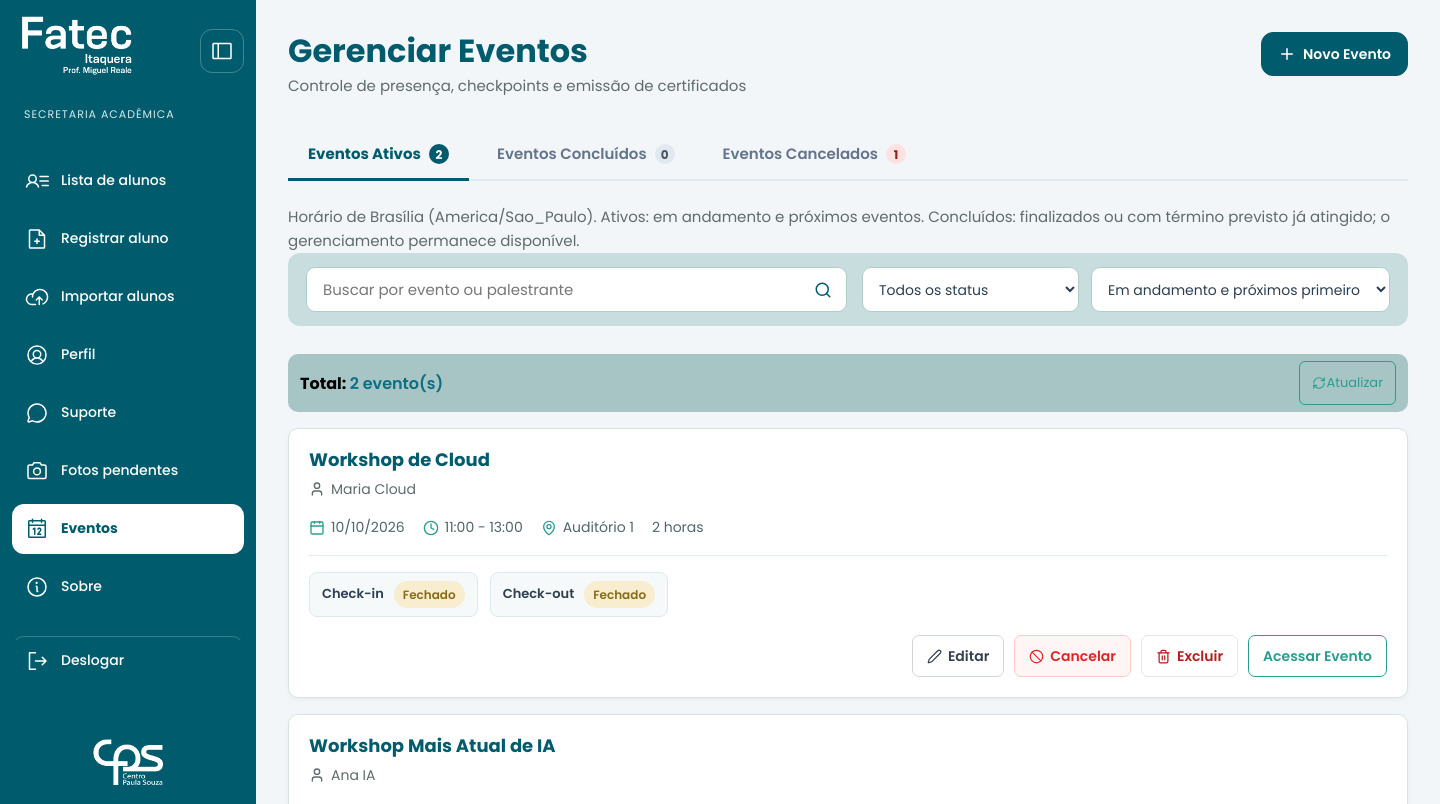
Test: SecretariaEventosScreen › renders active events by default and displays cancelled events only in cancelled tab
The width and height of the screenshot is (1440, 804).
expect the heading "Workshop Mais Atual de IA" is shown: met, box [309,735,556,757]
expect the heading "Workshop de Cloud" is shown: met, box [309,449,490,471]
// Troca para a aba de cancelados
Click the tab "Eventos Cancelados 1". click: (814, 156)
box: [703,130,926,181]
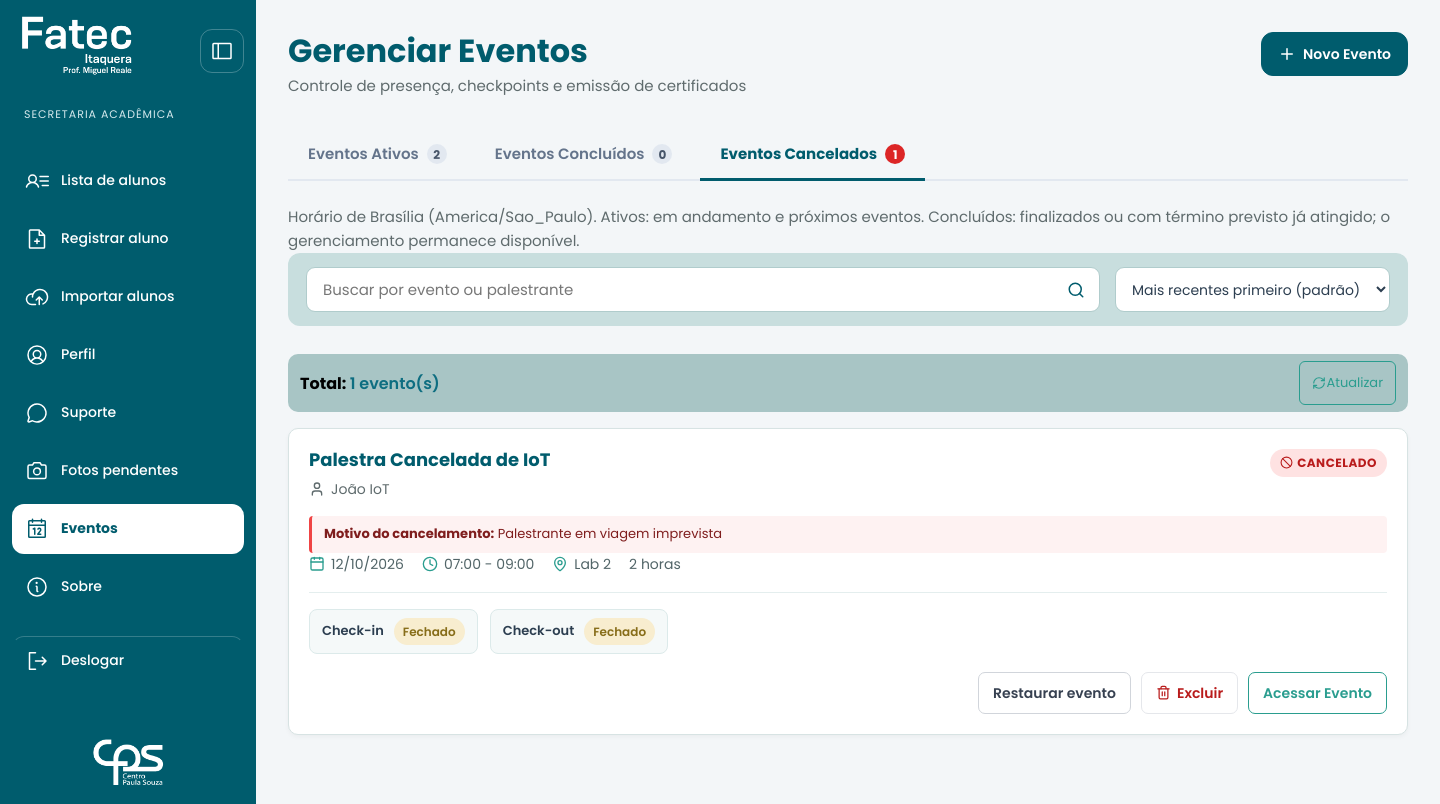
expect the heading "Palestra Cancelada de IoT" is shown: met, box [309,449,550,471]
expect the text "Cancelado" is shown: met, box [1270,449,1387,477]
expect the text "Motivo do cancelamento: Palestrante em viagem imprevista" is shown: met, box [309,516,1387,553]
